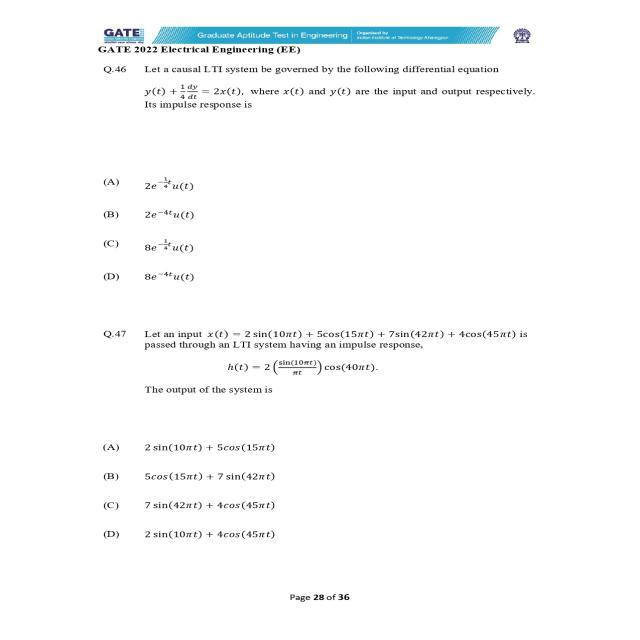Answer_Block: (96, 165, 543, 292), (96, 436, 543, 540)
Question_Answer_Block: (95, 64, 538, 292), (94, 329, 542, 542)
Question_Block: (92, 328, 544, 398), (90, 64, 542, 117)
Question_Paper_Area: (94, 42, 540, 542)
